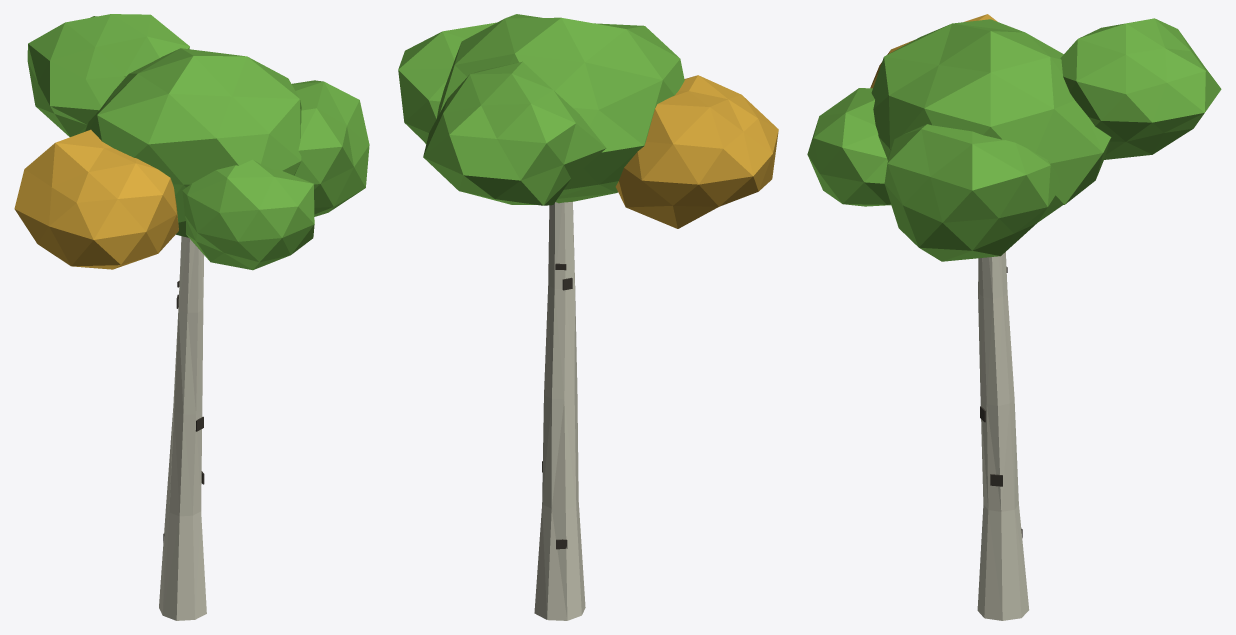
The model's file is HS_LP_Tree_Aspen_01.fbx.
The picture shows the model from 3 angles, left to right: view 1: azimuth 30°, elevation 25°; view 2: azimuth 150°, elevation 25°; view 3: azimuth 270°, elevation 25°; orthographic projection. The views are drawn at different scales.
Visible parts, largest first — view 1: HS_LP_Tree_Aspen_01; view 2: HS_LP_Tree_Aspen_01; view 3: HS_LP_Tree_Aspen_01.
Boxes of the visible parts, bbox=[...] form: HS_LP_Tree_Aspen_01: bbox=[14, 14, 369, 620]; HS_LP_Tree_Aspen_01: bbox=[398, 14, 778, 620]; HS_LP_Tree_Aspen_01: bbox=[807, 14, 1221, 620].
Bounding box in the file's own units: 343 × 541 × 349.
